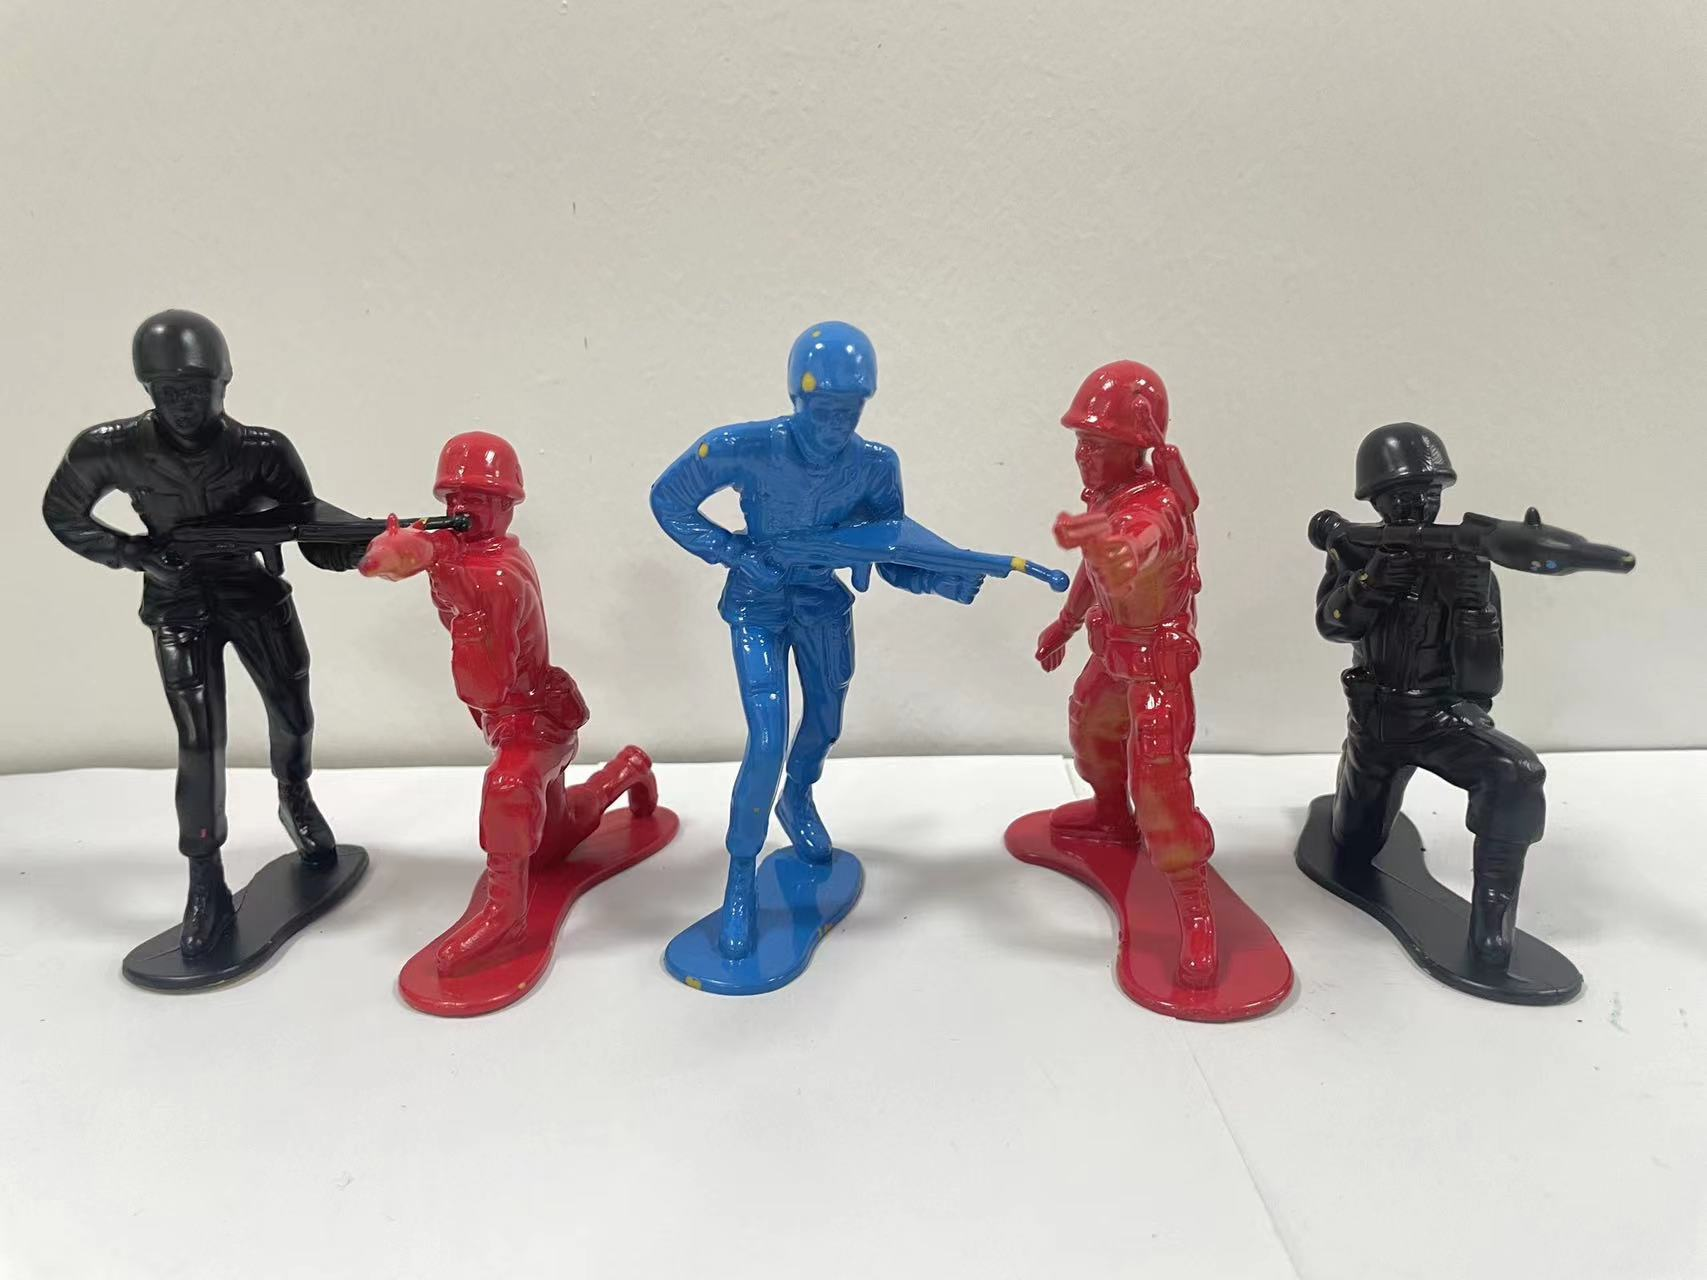black: (20, 254, 374, 1045), (1290, 406, 1665, 1074)
blue: (647, 255, 1013, 1080)
red: (355, 394, 703, 1050), (1020, 343, 1310, 1065)
